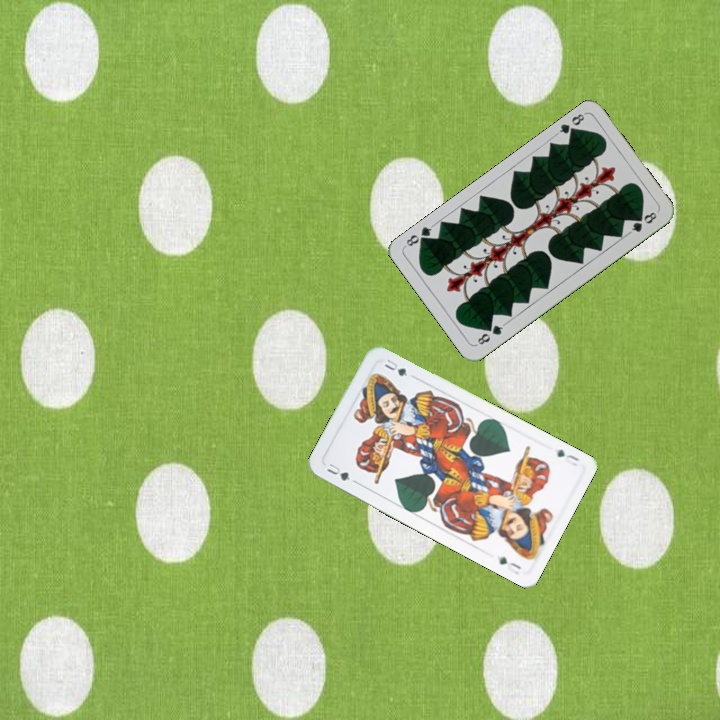G8: (552, 109, 587, 139), (473, 319, 508, 347)
GU: (323, 459, 353, 484), (553, 445, 582, 469)
